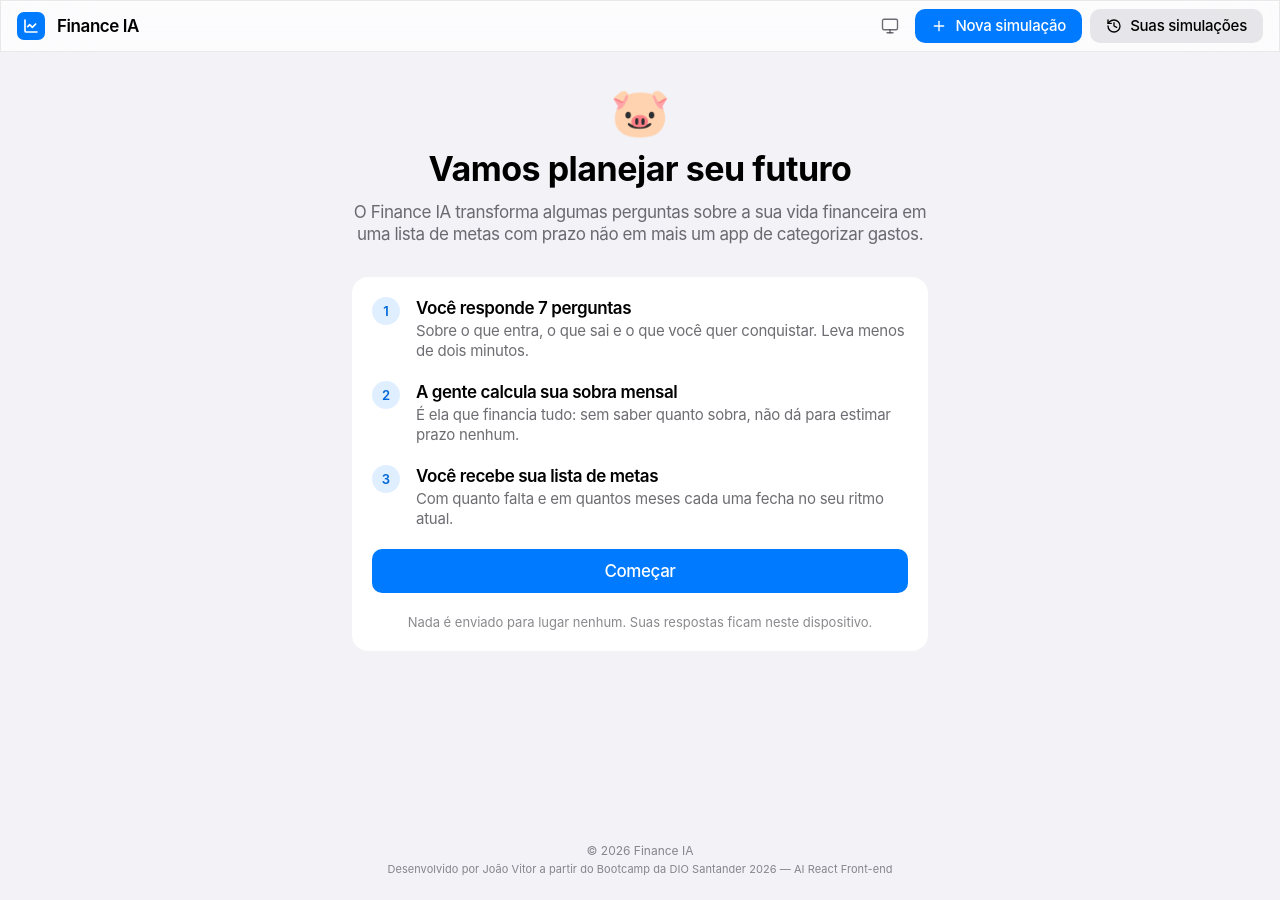
Scenario: App › leva ao histórico e diz que as simulações ficam no dispositivo
This screenshot has width=1280, height=900.
Step 1. Click the button "Suas simulações" → (1177, 26), box [1090,9,1263,43]
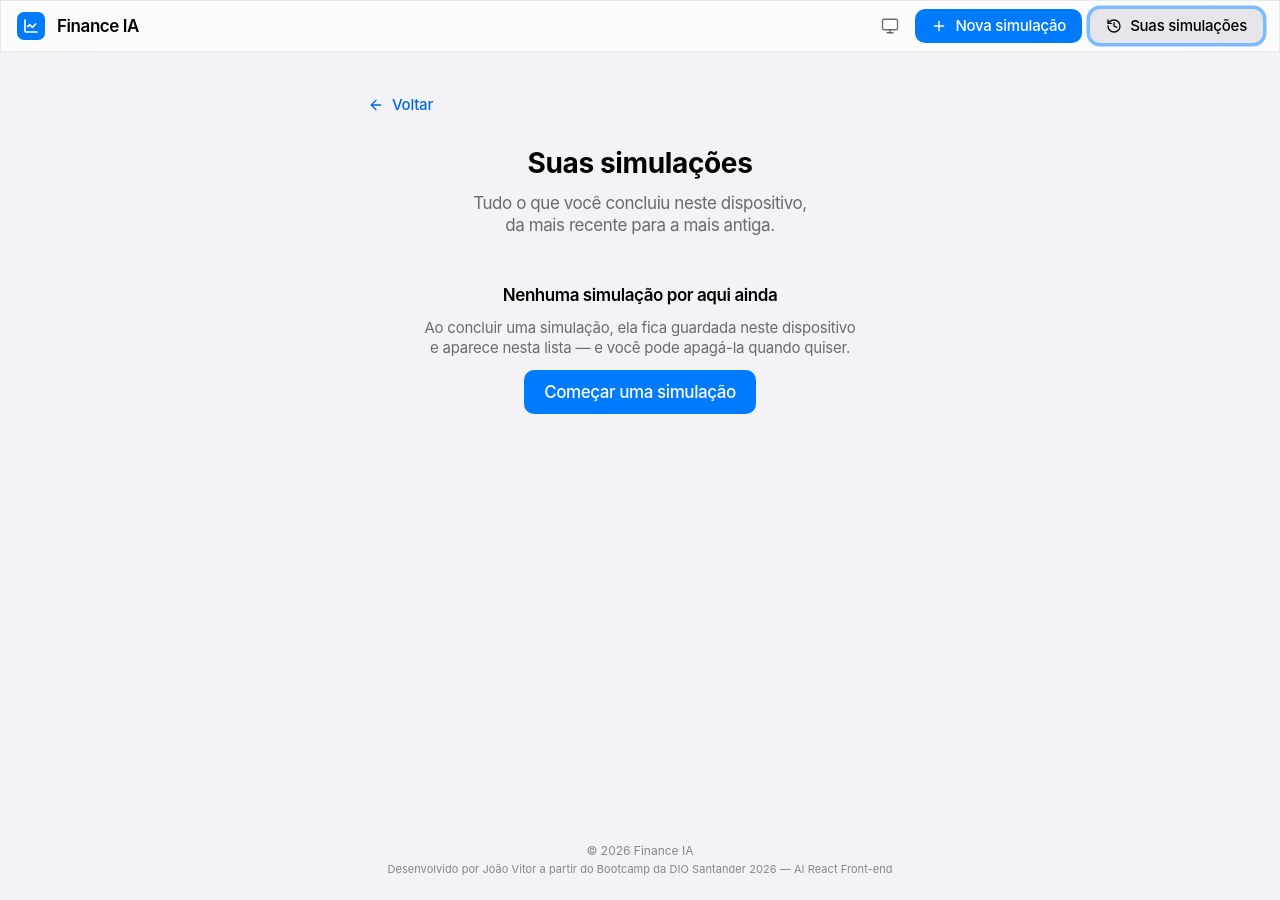
expect the heading "Suas simulações" is shown: met, box [528,146,752,180]
expect the text "Nenhuma simulação por aqui ainda" is shown: met, box [503,284,777,306]
expect the text "fica guardada neste dispositivo" is shown: met, box [424,318,856,357]
